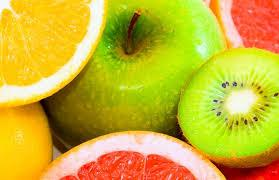Organic: (2, 0, 279, 180)
